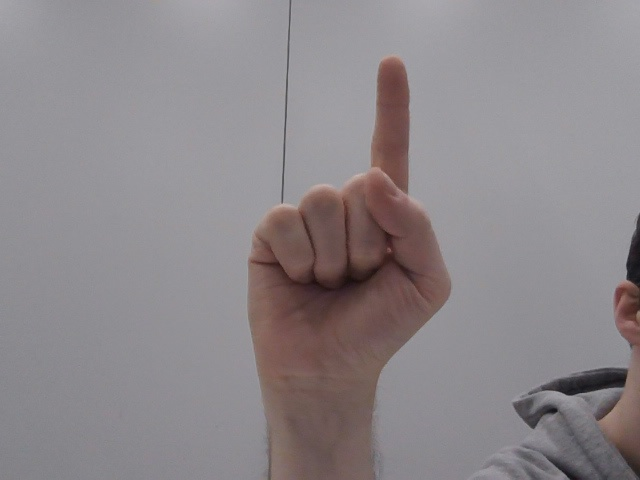up: (237, 37, 466, 423)
